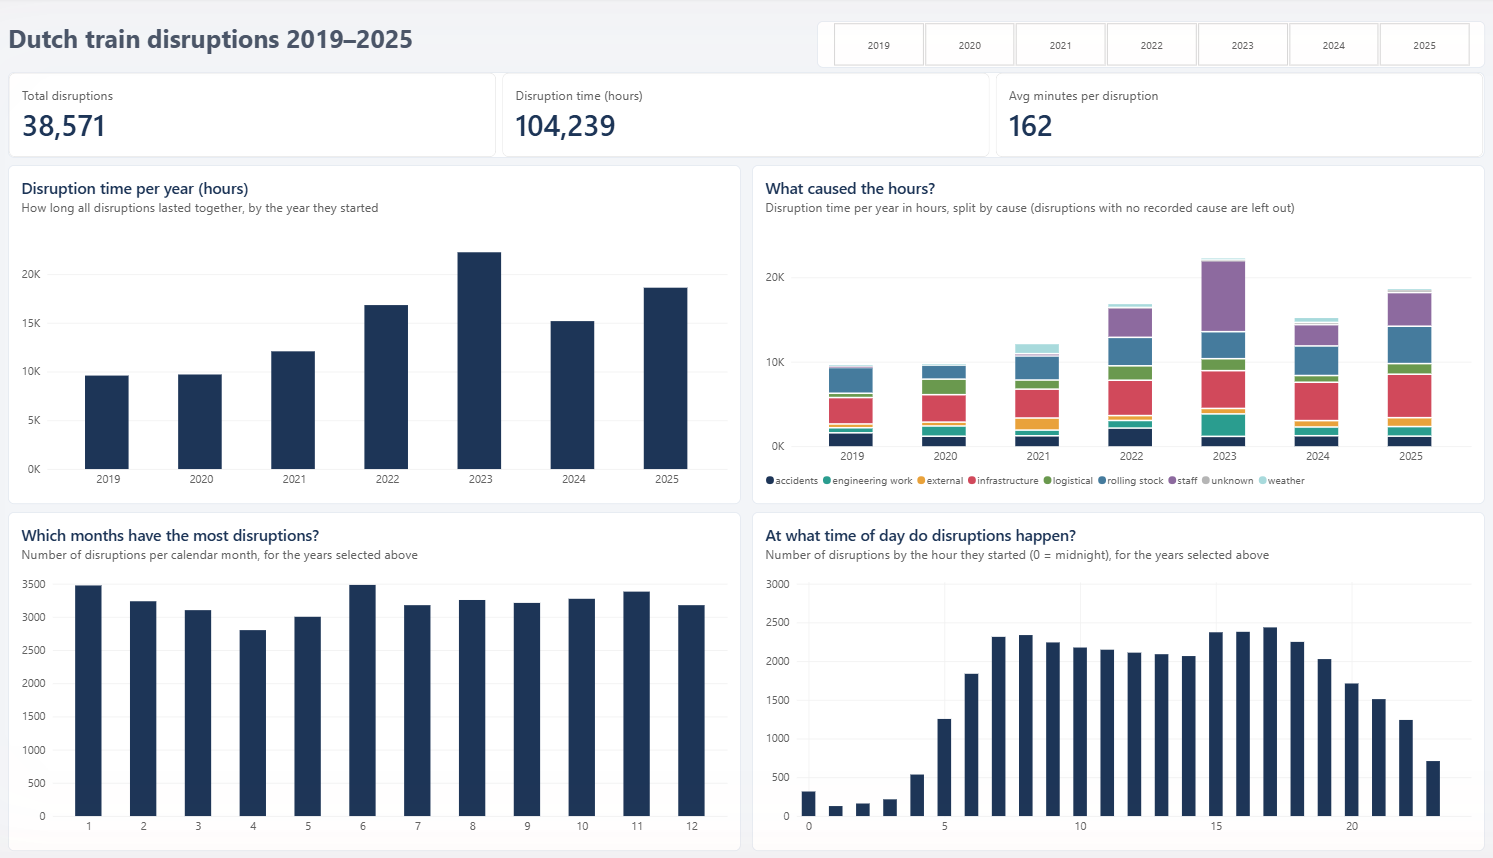

Layout of this report page (visuals, bound fields, positions):
{"tool":"powerbi","page":{"name":"Dashboard","canvas":[1920,1080],"ordinal":0},"visuals":[{"type":"clusteredColumnChart","title":"Disruption time per year (hours)","fields":{"Category":["by_year.year"],"Y":["Sum(by_year.hours)"]},"box":[13,190,940,435],"z":0},{"type":"columnChart","title":"What caused the hours?","fields":{"Category":["by_year_cause.year"],"Series":["by_year_cause.cause_group"],"Y":["Sum(by_year_cause.hours)"]},"box":[967,190,940,435],"z":1},{"type":"clusteredColumnChart","title":"Which months have the most disruptions?","fields":{"Category":["by_month.month"],"Y":["Sum(by_month.disruptions)"]},"box":[13,635,940,435],"z":2},{"type":"clusteredColumnChart","title":"At what time of day do disruptions happen?","fields":{"Category":["by_hour.hour"],"Y":["Sum(by_hour.disruptions)"]},"box":[967,635,940,435],"z":3},{"type":"textbox","box":[100,100,300,300],"z":4},{"type":"textbox","box":[13,5,1000,60],"z":5},{"type":"cardVisual","fields":{"Data":["by_year.Total disruptions","by_year.Total hours disrupted","by_year.Avg minutes per disruption"]},"box":[13,70,1894,110],"z":6},{"type":"slicer","fields":{"Values":["by_year.year"]},"box":[1050,5,857,60],"z":7}]}

Visuals, with their boxes in screenshot pixels (x1, y1, x2, y2), scaled from the page's 1920x1080 canvas onto the 1493x858 screenshot:
"Disruption time per year (hours)" clusteredColumnChart: left=10, top=151, right=741, bottom=497
"What caused the hours?" columnChart: left=752, top=151, right=1483, bottom=497
"Which months have the most disruptions?" clusteredColumnChart: left=10, top=504, right=741, bottom=850
"At what time of day do disruptions happen?" clusteredColumnChart: left=752, top=504, right=1483, bottom=850
textbox: left=78, top=79, right=311, bottom=318
textbox: left=10, top=4, right=788, bottom=52
cardVisual - by_year.Total disruptions x by_year.Total hours disrupted: left=10, top=56, right=1483, bottom=143
slicer - by_year.year: left=816, top=4, right=1483, bottom=52
